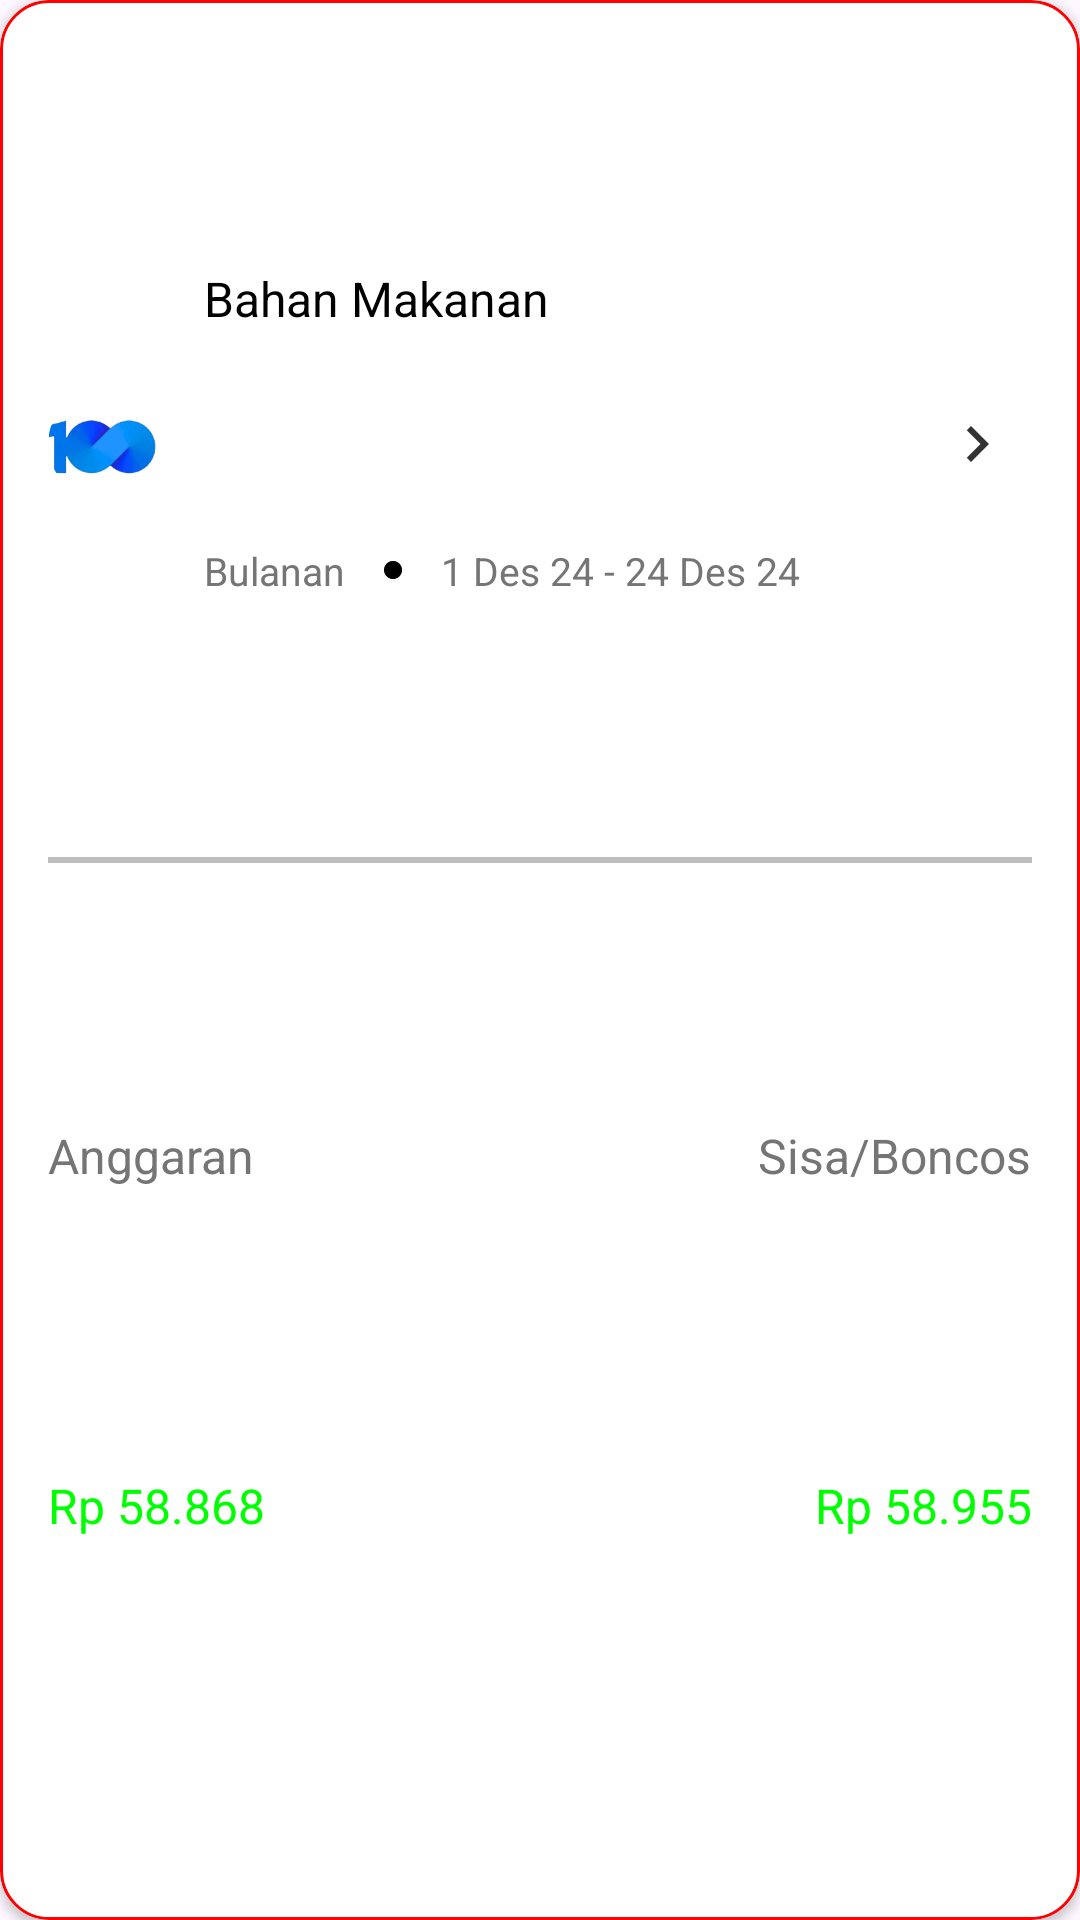

Locate icon controls on the screen. Image size 1080px x 1920px, boxes as bbox=(x1, y1, x2, y2).
next detail: bbox=(967, 426, 989, 462)
